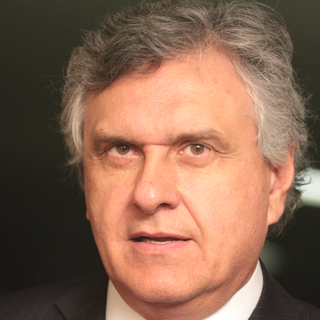eye: (166, 135, 221, 163), (97, 138, 143, 163)
